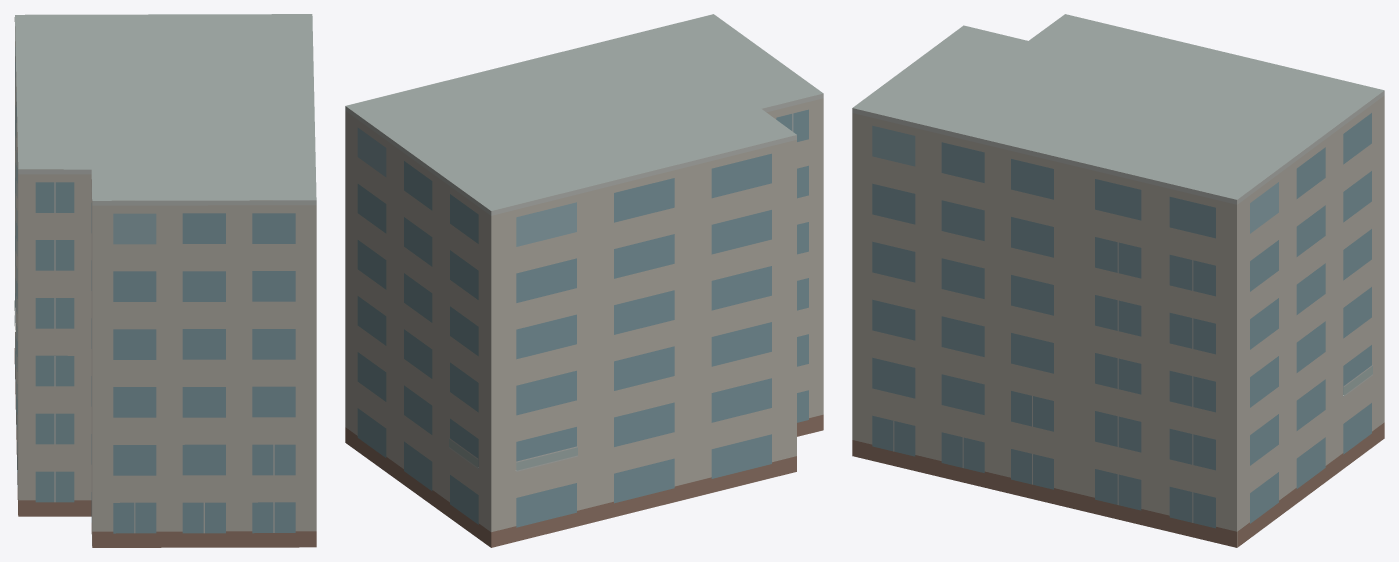
Rendered from survey-upis-32623812.glb.
3 renders of one model, left to right at view 1: azimuth 30°, elevation 25°; view 2: azimuth 150°, elevation 25°; view 3: azimuth 270°, elevation 25°, orthographic. The views are drawn at different scales.
Parts seen in each view (by area): view 1: survey-upis-32623812.tmp; view 2: survey-upis-32623812.tmp; view 3: survey-upis-32623812.tmp.
Part boxes in pixels (box(x1,y1,x2,y2)): survey-upis-32623812.tmp: box(14, 14, 316, 547); survey-upis-32623812.tmp: box(345, 14, 823, 547); survey-upis-32623812.tmp: box(852, 14, 1384, 547).
Size of the model in its own units: 19.71 by 17.2 by 23.86.
